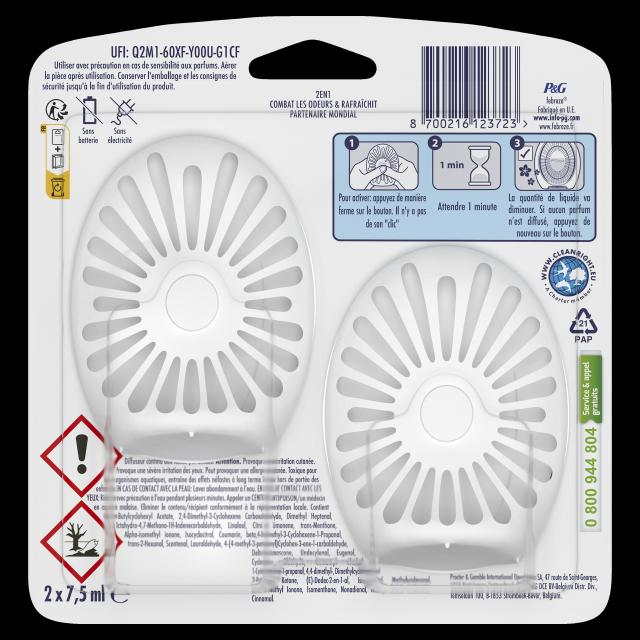GHS_Symbol_ENVIRONMENT: (41, 501, 123, 583)
GHS_Symbol_EXCLAMATION_MARK: (40, 414, 124, 498)
